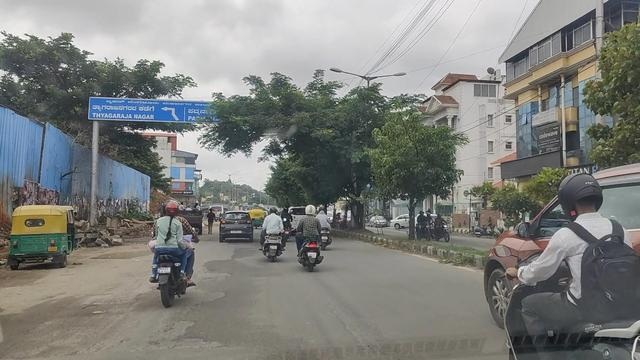LMV: (508, 169, 640, 360), (148, 200, 193, 301), (12, 203, 75, 269), (261, 206, 289, 261), (302, 200, 321, 266), (221, 209, 253, 246)
RoadDamages: (30, 291, 117, 351), (152, 314, 228, 360), (196, 253, 243, 301)
